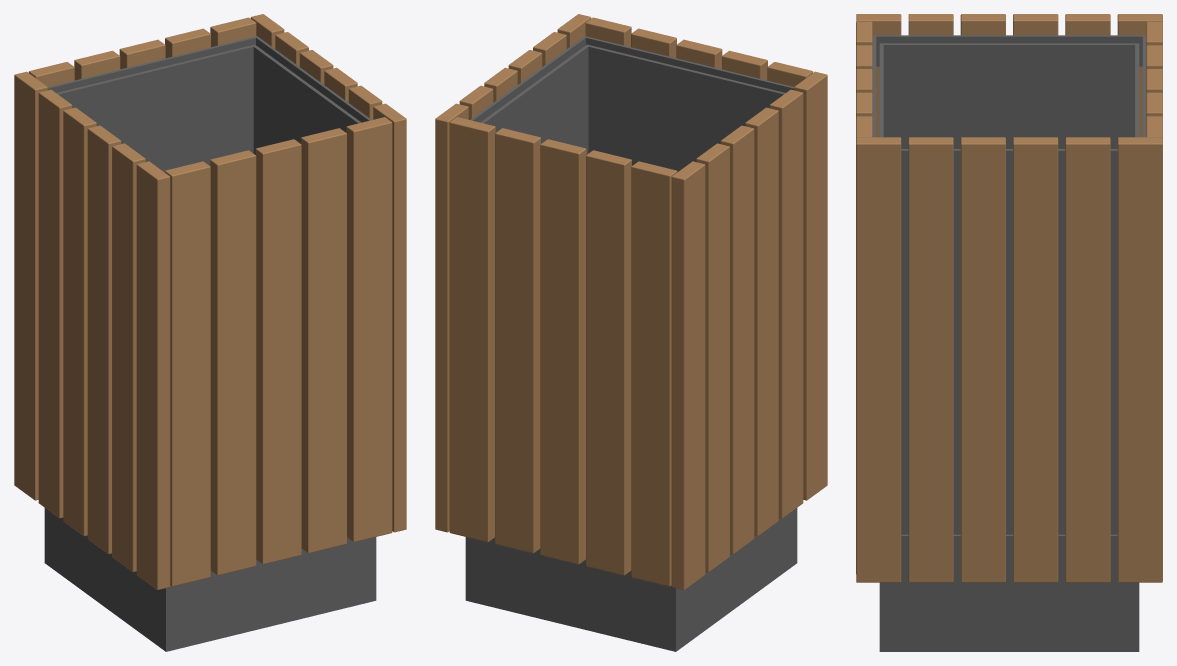
File: Urna_3.glb
3 renders of one model, left to right at view 1: azimuth 30°, elevation 25°; view 2: azimuth 150°, elevation 25°; view 3: azimuth 270°, elevation 25°, orthographic. The views are drawn at different scales.
Visible parts, largest first — view 1: Mesh 9945, Mesh 1347; view 2: Mesh 9945, Mesh 1347; view 3: Mesh 9945, Mesh 1347.
Boxes of the visible parts, box(x1,y1,x2,y2) form: Mesh 9945: box(14, 14, 406, 589); Mesh 1347: box(44, 36, 376, 651); Mesh 9945: box(435, 14, 827, 590); Mesh 1347: box(465, 36, 797, 651); Mesh 9945: box(856, 14, 1162, 582); Mesh 1347: box(873, 35, 1145, 651).
Bounding box in the file's own units: 0.7855 × 1.46 × 0.7822.
